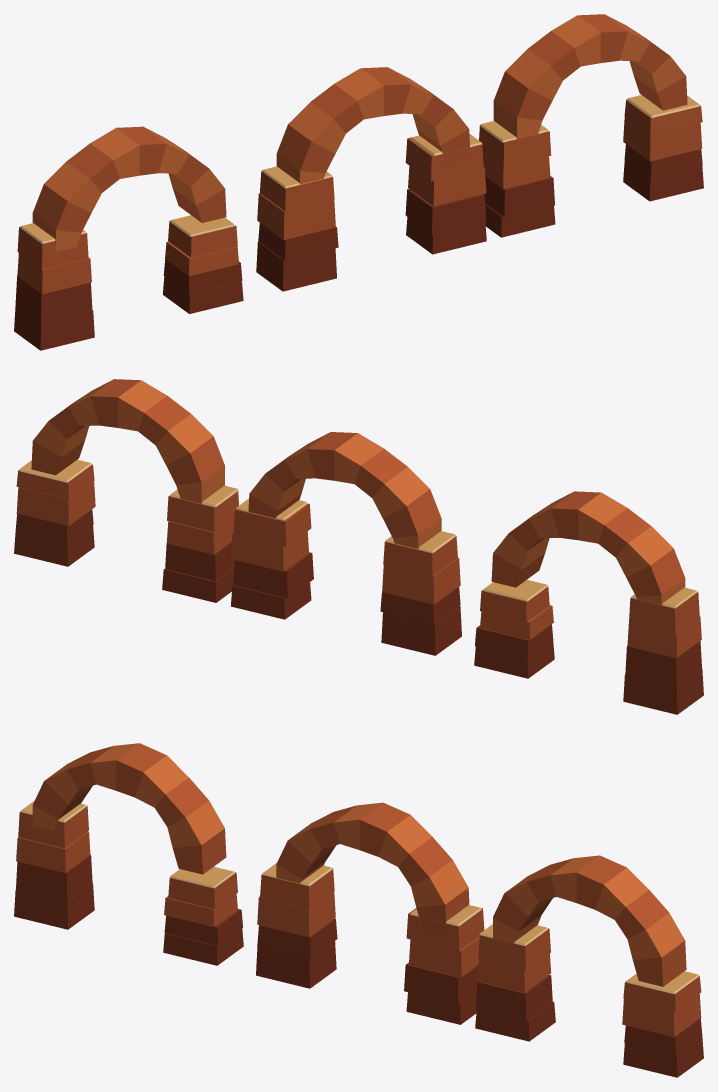
Rendered from W5_Far_Arches.fbx.
3 renders of one model, top to bottom at view 1: azimuth 30°, elevation 25°; view 2: azimuth 150°, elevation 25°; view 3: azimuth 330°, elevation 25°, orthographic.
Visible parts, largest first — view 1: W5_Far_Arches; view 2: W5_Far_Arches; view 3: W5_Far_Arches.
Part boxes in pixels (bbox=[...]): W5_Far_Arches: bbox=[14, 14, 703, 350]; W5_Far_Arches: bbox=[14, 379, 703, 714]; W5_Far_Arches: bbox=[14, 743, 703, 1077].
Bounding box in the file's own units: 490 × 127 × 35.78.
